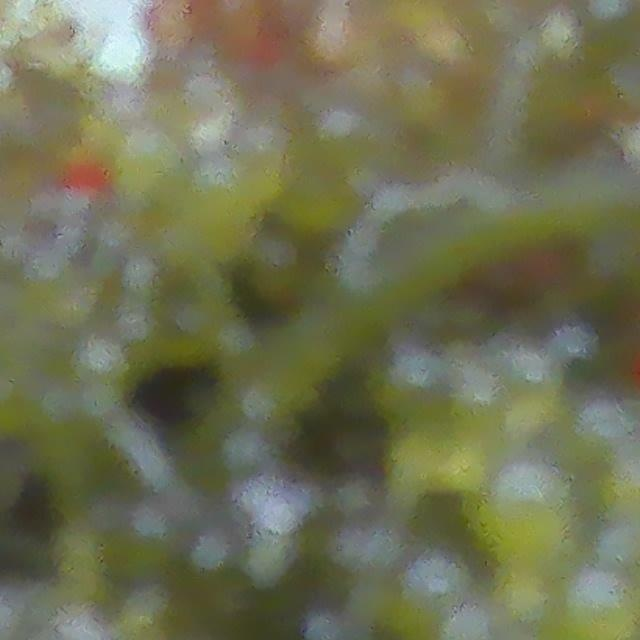SeaGrape: (471, 462, 584, 568), (551, 571, 640, 640)
